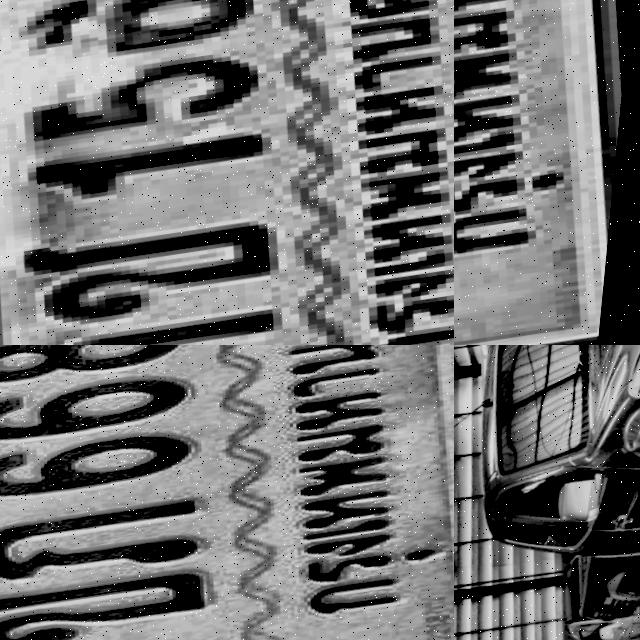license-plate: (0, 0, 454, 345), (0, 345, 454, 640), (454, 0, 640, 345)
